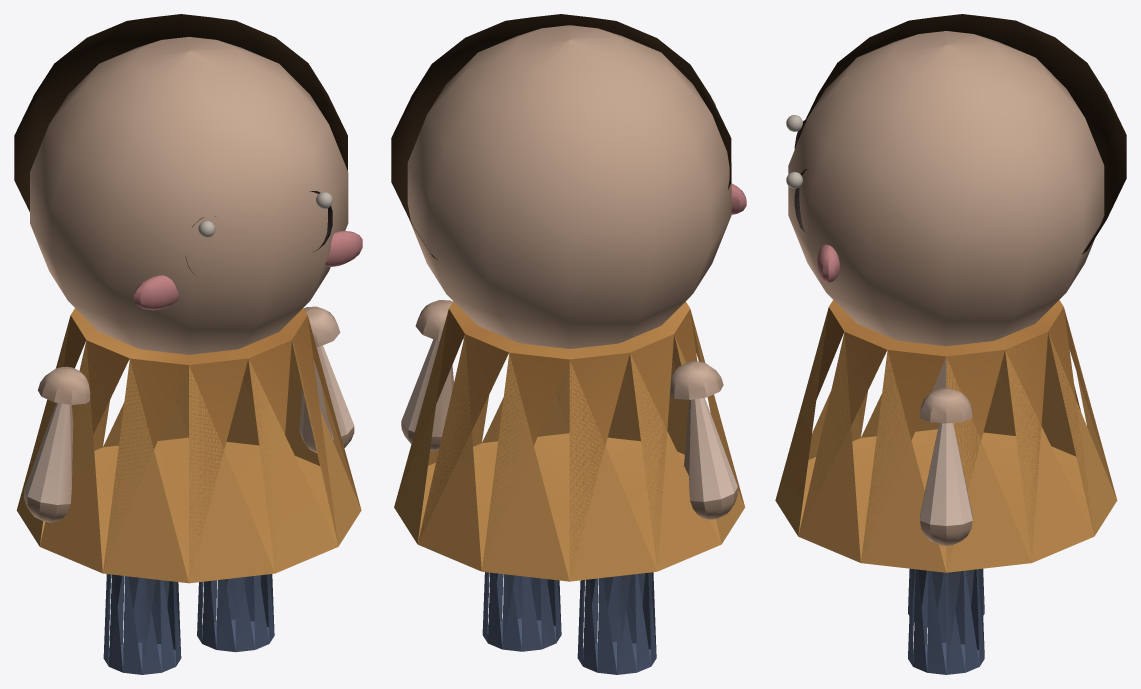
3 renders of one model, left to right at view 1: azimuth 30°, elevation 25°; view 2: azimuth 150°, elevation 25°; view 3: azimuth 270°, elevation 25°, orthographic. The views are drawn at different scales.
Parts seen in each view (by area): view 1: pet_pb0cc8e7e; view 2: pet_pb0cc8e7e; view 3: pet_pb0cc8e7e.
Boxes of the visible parts, left/top/right/bottom form: pet_pb0cc8e7e: left=14, top=14, right=362, bottom=674; pet_pb0cc8e7e: left=391, top=14, right=746, bottom=674; pet_pb0cc8e7e: left=775, top=14, right=1126, bottom=674.
Size of the model in its own units: 0.3464 by 0.625 by 0.3287.
